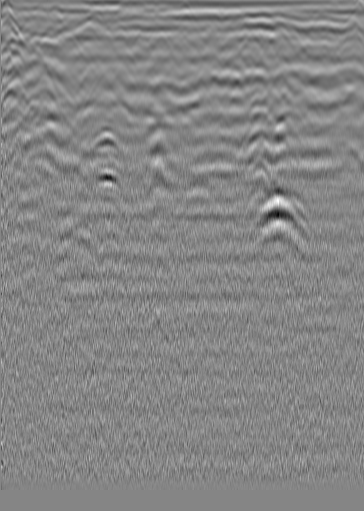가스: (63, 224, 94, 252)
상수: (321, 37, 341, 57)
오수: (23, 40, 43, 60)
우수: (196, 41, 216, 61)
